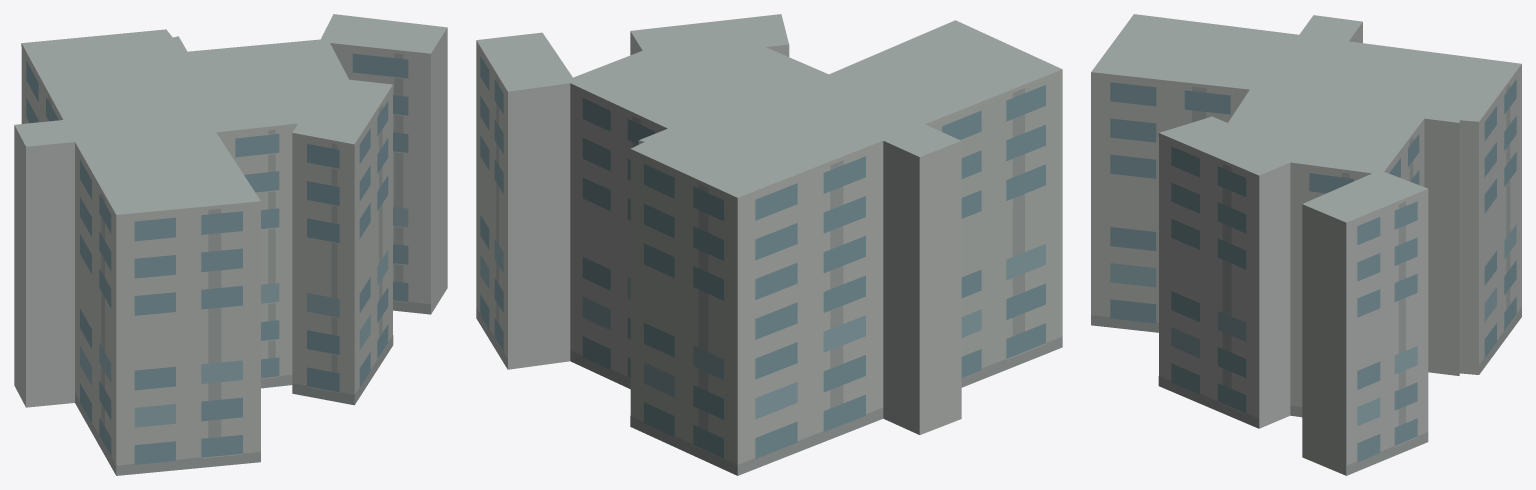
The model's file is survey-upis-32674752.glb.
3 views of the same model, side by side, from view 1: azimuth 30°, elevation 25°; view 2: azimuth 150°, elevation 25°; view 3: azimuth 270°, elevation 25° (orthographic). The views are drawn at different scales.
Parts seen in each view (by area): view 1: survey-upis-32674752.tmp; view 2: survey-upis-32674752.tmp; view 3: survey-upis-32674752.tmp.
Boxes of the visible parts, x1,y1,x2,y2 form: survey-upis-32674752.tmp: (14, 14, 447, 475); survey-upis-32674752.tmp: (476, 14, 1062, 475); survey-upis-32674752.tmp: (1091, 14, 1521, 475).
Size of the model in its own units: 31.56 by 17.85 by 27.53.
